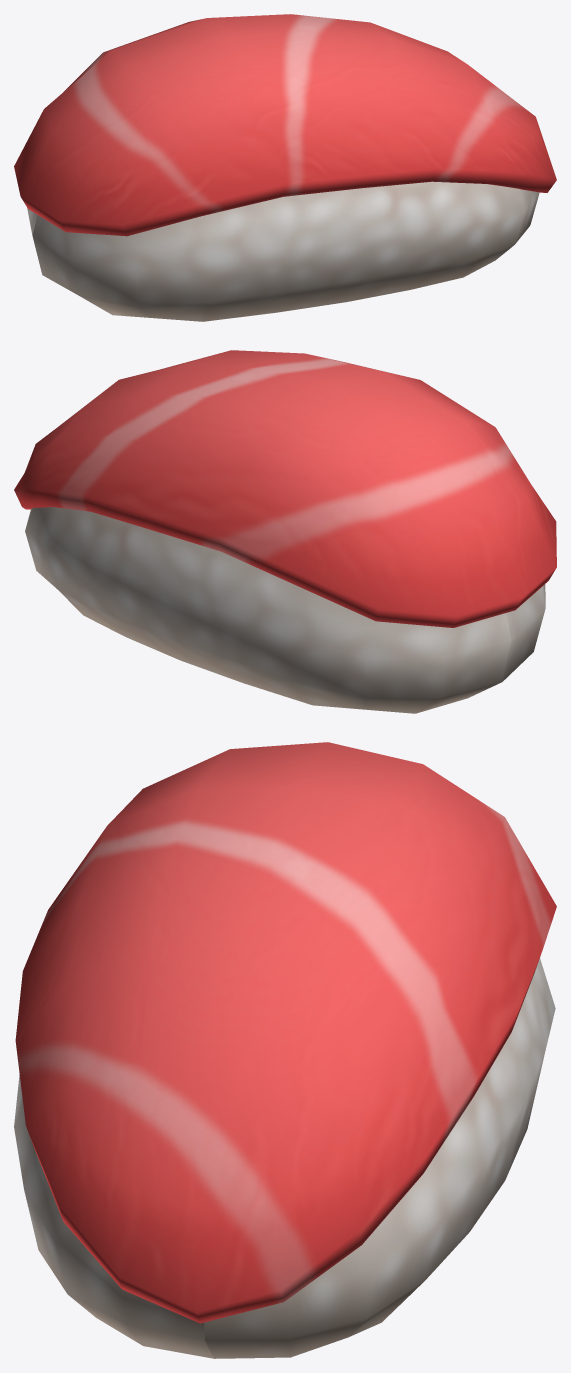
File: Sushi.fbx
3 renders of one model, top to bottom at view 1: azimuth 30°, elevation 25°; view 2: azimuth 150°, elevation 25°; view 3: azimuth 270°, elevation 25°, orthographic. The views are drawn at different scales.
Visible parts, largest first — view 1: Sushi_1; view 2: Sushi_1; view 3: Sushi_1.
Boxes of the visible parts, bbox=[...] form: Sushi_1: bbox=[14, 14, 556, 321]; Sushi_1: bbox=[14, 350, 556, 713]; Sushi_1: bbox=[14, 742, 556, 1358].
Size of the model in its own units: 29.85 by 14.57 by 18.15.
